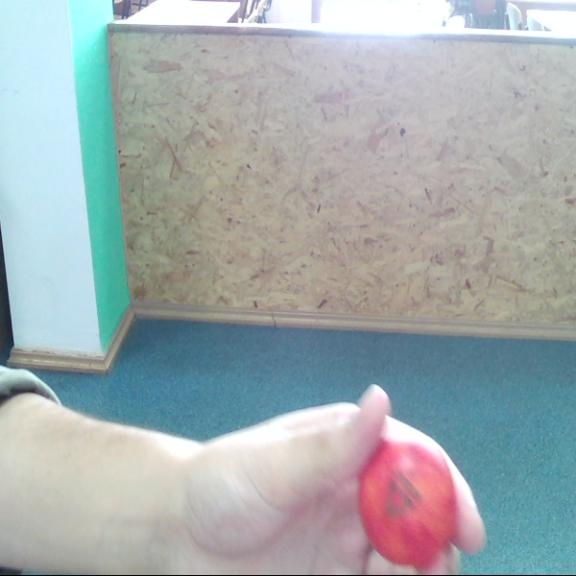ball: (360, 438, 462, 564)
